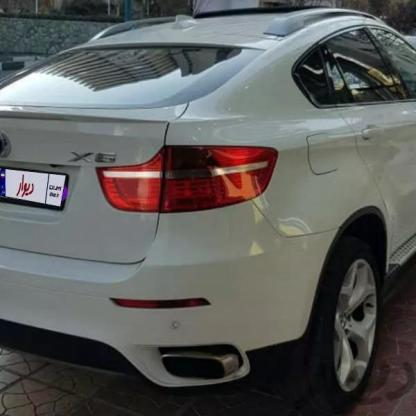Car: (0, 14, 416, 412)
